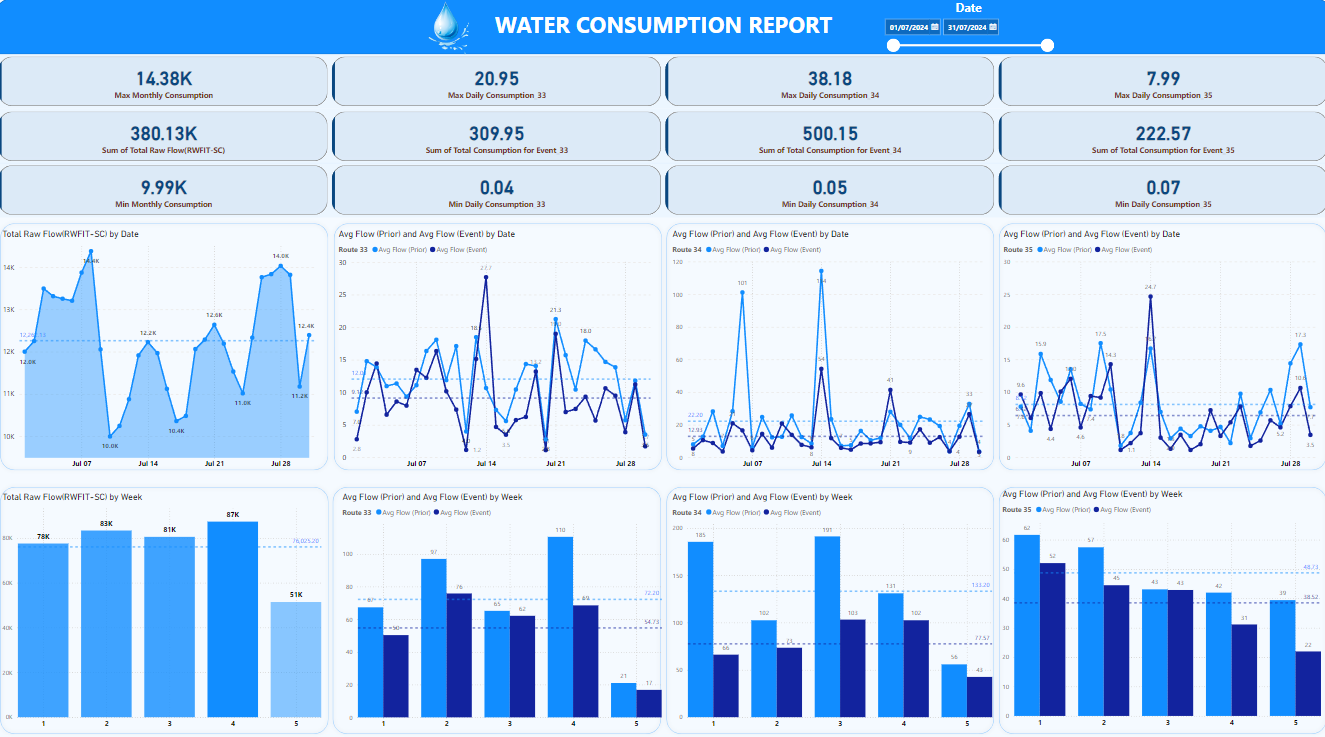

What the dashboard file says about the page in this screenshot:
{"tool":"powerbi","page":{"name":"Page 1","canvas":[2560,1440],"ordinal":0},"visuals":[{"type":"cardVisual","fields":{"Data":["John George Plant.Max Monthly Consumption","Route_33.Max Daily Consumption_33","Route_34.Max Daily Consumption_34","Route_35.Max Daily Consumption_35"]},"box":[0,105,2560,105],"z":0},{"type":"cardVisual","fields":{"Data":["John George Plant.Total Raw Flow(RWFIT-SC)","Route_33.Total Consumption for Event","Route_34.Total Consumption for Event","Route_35.Total Consumption for Event"]},"box":[0,210,2560,105],"z":1000},{"type":"cardVisual","fields":{"Data":["John George Plant.Min Monthly Consumption","Route_33.Min Daily Consumption_33","Route_34.Min Daily Consumption_34","Route_35.Min Daily Consumption_35"]},"box":[0,315,2560,105],"z":2000},{"type":"shape","box":[0,0,2560,106],"z":3000},{"type":"textbox","box":[0,20,2560,85],"z":4000},{"type":"shape","box":[0,421.4,645,490],"z":5000},{"type":"shape","box":[640,421.4,645,490],"z":6000},{"type":"shape","box":[1278.6,421.4,644.3,490],"z":7000},{"type":"shape","box":[1915.7,421.4,644.3,490],"z":8000},{"type":"shape","box":[0,927.1,645.7,490],"z":9000},{"type":"shape","box":[638.6,927.1,645.7,490],"z":10000},{"type":"shape","box":[1278.6,928.6,644.3,490],"z":11000},{"type":"shape","box":[1915.7,927.1,644.3,490],"z":12000},{"type":"lineChart","fields":{"Y":["John George Plant.Total Raw Flow(RWFIT-SC)"],"Category":["Sheet1.Date"]},"box":[7.5,441.2,617.5,470],"z":13000},{"type":"areaChart","fields":{"Category":["Sheet1.Date"],"Y":["Route_33.Avg Daily Flow (Prior)","Route_33.Avg Daily Flow (Event)"]},"box":[651.4,440,617.1,470],"z":14000},{"type":"lineChart","fields":{"Category":["Sheet1.Date"],"Y":["Route_34.Avg Daily Flow (Prior)","Route_34.Avg Daily Flow (Event)"]},"box":[1292.5,441.2,617.5,470],"z":15000},{"type":"lineChart","fields":{"Category":["Sheet1.Date"],"Y":["Route_35.Avg Daily Flow (Prior)","Route_35.Avg Daily Flow (Event)"]},"box":[1926.2,441.2,617.5,470],"z":16000},{"type":"clusteredColumnChart","fields":{"Category":["Sheet1.WeekNumber"],"Y":["John George Plant.Total Raw Flow(RWFIT-SC)"]},"box":[8.3,943.3,621.7,465],"z":17000},{"type":"clusteredColumnChart","fields":{"Category":["Sheet1.WeekNumber"],"Y":["Route_33.Avg Daily Flow (Prior)","Route_33.Avg Daily Flow (Event)"]},"box":[658.8,943.8,622.5,465],"z":18000},{"type":"clusteredColumnChart","fields":{"Category":["Sheet1.WeekNumber"],"Y":["Route_34.Avg Daily Flow (Prior)","Route_34.Avg Daily Flow (Event)"]},"box":[1291.3,944,623.6,464.7],"z":19000},{"type":"clusteredColumnChart","fields":{"Category":["Sheet1.WeekNumber"],"Y":["Route_35.Avg Daily Flow (Prior)","Route_35.Avg Daily Flow (Event)"]},"box":[1924.7,939.1,621.2,467.1],"z":20000},{"type":"slicer","title":"   Date","fields":{"Values":["Sheet1.Date"]},"box":[1692.5,0,345,105],"z":21000},{"type":"image","box":[808,0,120,112],"z":22000}]}

Visuals, with their boxes in screenshot pixels (x1, y1, x2, y2), scaled from the page's 2560x1440 canvas onto the 1325x737 screenshot:
cardVisual - John George Plant.Max Monthly Consumption x Route_33.Max Daily Consumption_33: 0/54/1324/107
cardVisual - John George Plant.Total Raw Flow(RWFIT-SC) x Route_33.Total Consumption for Event: 0/107/1324/161
cardVisual - John George Plant.Min Monthly Consumption x Route_33.Min Daily Consumption_33: 0/161/1324/215
shape: 0/0/1324/54
textbox: 0/10/1324/54
shape: 0/216/334/466
shape: 331/216/665/466
shape: 662/216/995/466
shape: 992/216/1324/466
shape: 0/474/334/725
shape: 331/474/665/725
shape: 662/475/995/726
shape: 992/474/1324/725
lineChart - John George Plant.Total Raw Flow(RWFIT-SC) x Sheet1.Date: 4/226/323/466
areaChart - Sheet1.Date x Route_33.Avg Daily Flow (Prior): 337/225/657/466
lineChart - Sheet1.Date x Route_34.Avg Daily Flow (Prior): 669/226/989/466
lineChart - Sheet1.Date x Route_35.Avg Daily Flow (Prior): 997/226/1317/466
clusteredColumnChart - Sheet1.WeekNumber x John George Plant.Total Raw Flow(RWFIT-SC): 4/483/326/721
clusteredColumnChart - Sheet1.WeekNumber x Route_33.Avg Daily Flow (Prior): 341/483/663/721
clusteredColumnChart - Sheet1.WeekNumber x Route_34.Avg Daily Flow (Prior): 668/483/991/721
clusteredColumnChart - Sheet1.WeekNumber x Route_35.Avg Daily Flow (Prior): 996/481/1318/720
"   Date" slicer: 876/0/1055/54
image: 418/0/480/57
